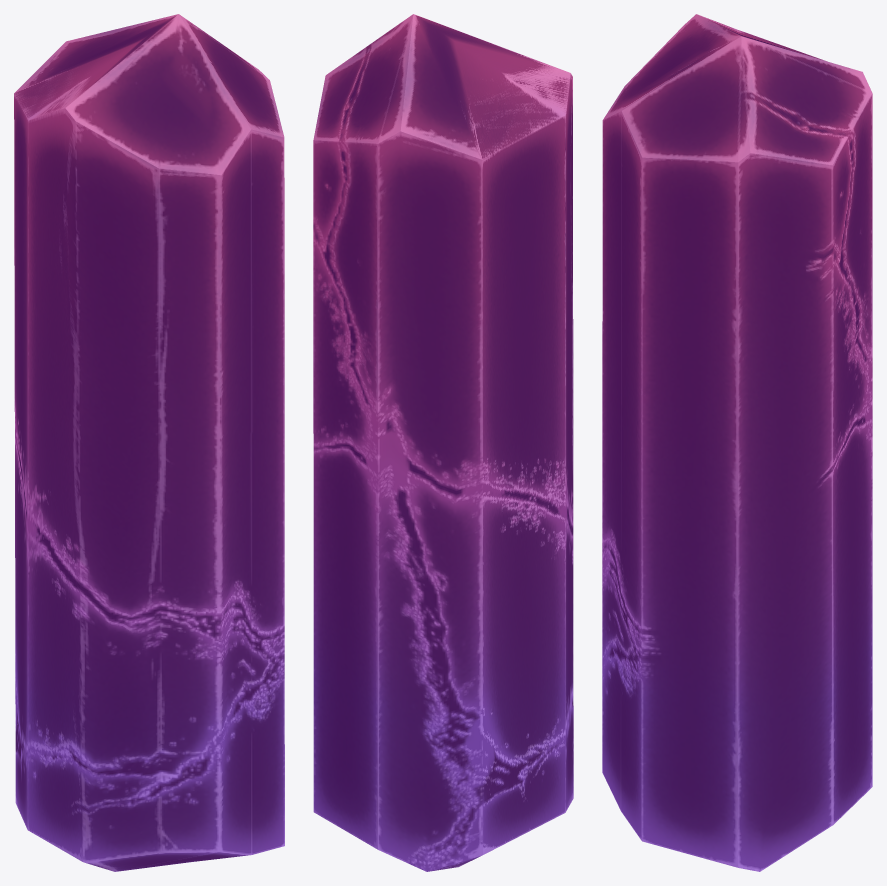
The model's file is sibur.glb.
The picture shows the model from 3 angles, left to right: view 1: azimuth 30°, elevation 25°; view 2: azimuth 150°, elevation 25°; view 3: azimuth 270°, elevation 25°; orthographic projection. The views are drawn at different scales.
Visible parts, largest first — view 1: Crystal_LP; view 2: Crystal_LP; view 3: Crystal_LP.
Boxes of the visible parts, x1,y1,x2,y2 form: Crystal_LP: (14,14,284,871); Crystal_LP: (313,14,573,871); Crystal_LP: (602,14,872,871).
Bounding box in the file's own units: 200 × 665 × 200.
Materials: 1 (1 with a texture image).
